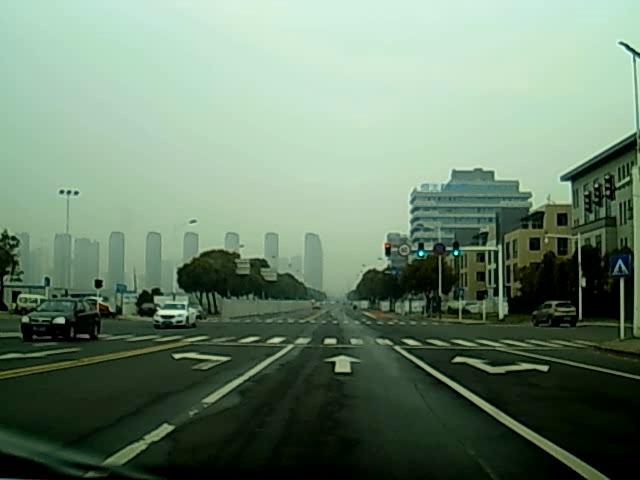Traffic_Light_go: (418, 242, 425, 260), (452, 242, 459, 259)
Traffic_Light_stop: (384, 243, 393, 261)
